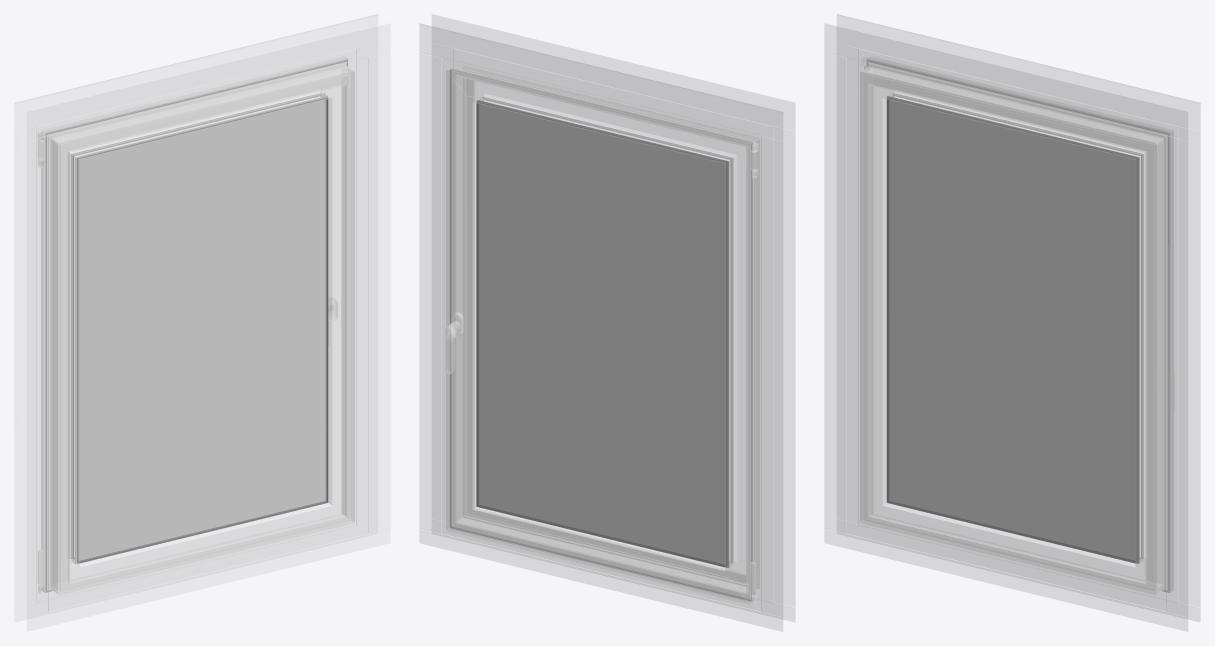
Rendered from w_tilt.glb.
3 renders of one model, left to right at view 1: azimuth 30°, elevation 25°; view 2: azimuth 150°, elevation 25°; view 3: azimuth 330°, elevation 25°, orthographic.
Visible parts, largest first — view 1: #WIN0003_Window_#WIN0003_Textures_0, #WIN0003_Frame_#WIN0003_Textures_0; view 2: #WIN0003_Window_#WIN0003_Textures_0, #WIN0003_Frame_#WIN0003_Textures_0; view 3: #WIN0003_Window_#WIN0003_Textures_0, #WIN0003_Frame_#WIN0003_Textures_0.
Boxes of the visible parts, box(x1,y1,x2,y2) form: #WIN0003_Window_#WIN0003_Textures_0: box(72, 94, 327, 563); #WIN0003_Frame_#WIN0003_Textures_0: box(14, 14, 390, 631); #WIN0003_Window_#WIN0003_Textures_0: box(476, 97, 732, 567); #WIN0003_Frame_#WIN0003_Textures_0: box(419, 14, 795, 631); #WIN0003_Window_#WIN0003_Textures_0: box(887, 96, 1142, 563); #WIN0003_Frame_#WIN0003_Textures_0: box(824, 14, 1200, 631).
Bounding box in the file's own units: 1.04 × 1.42 × 0.1279.
Materials: 2 (1 with a texture image).
